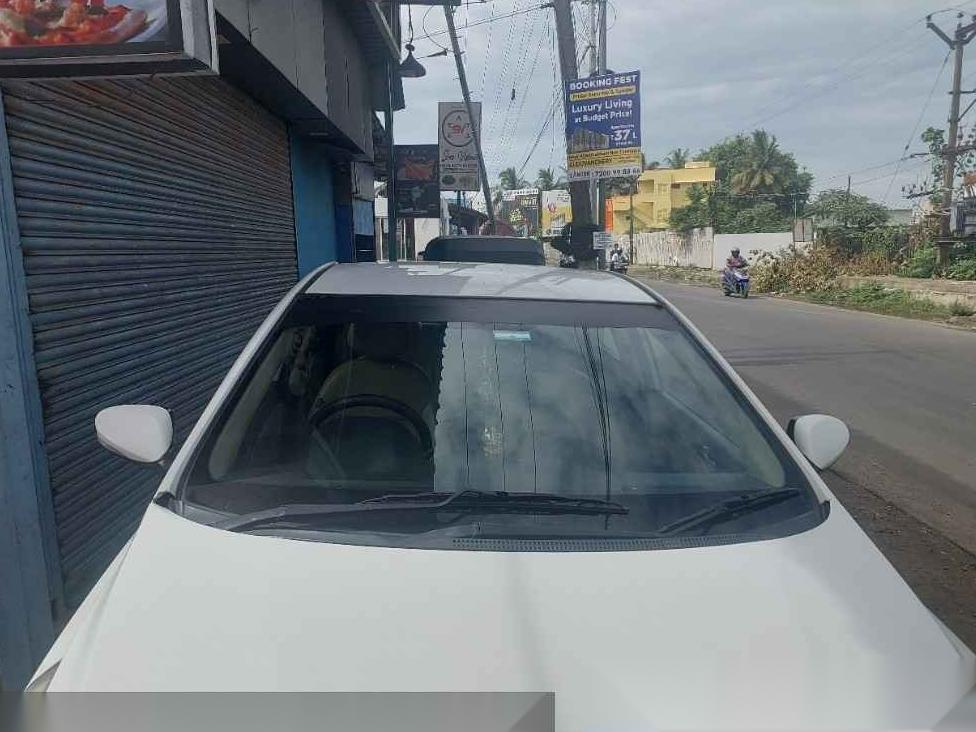FastTag: (483, 316, 544, 356)
